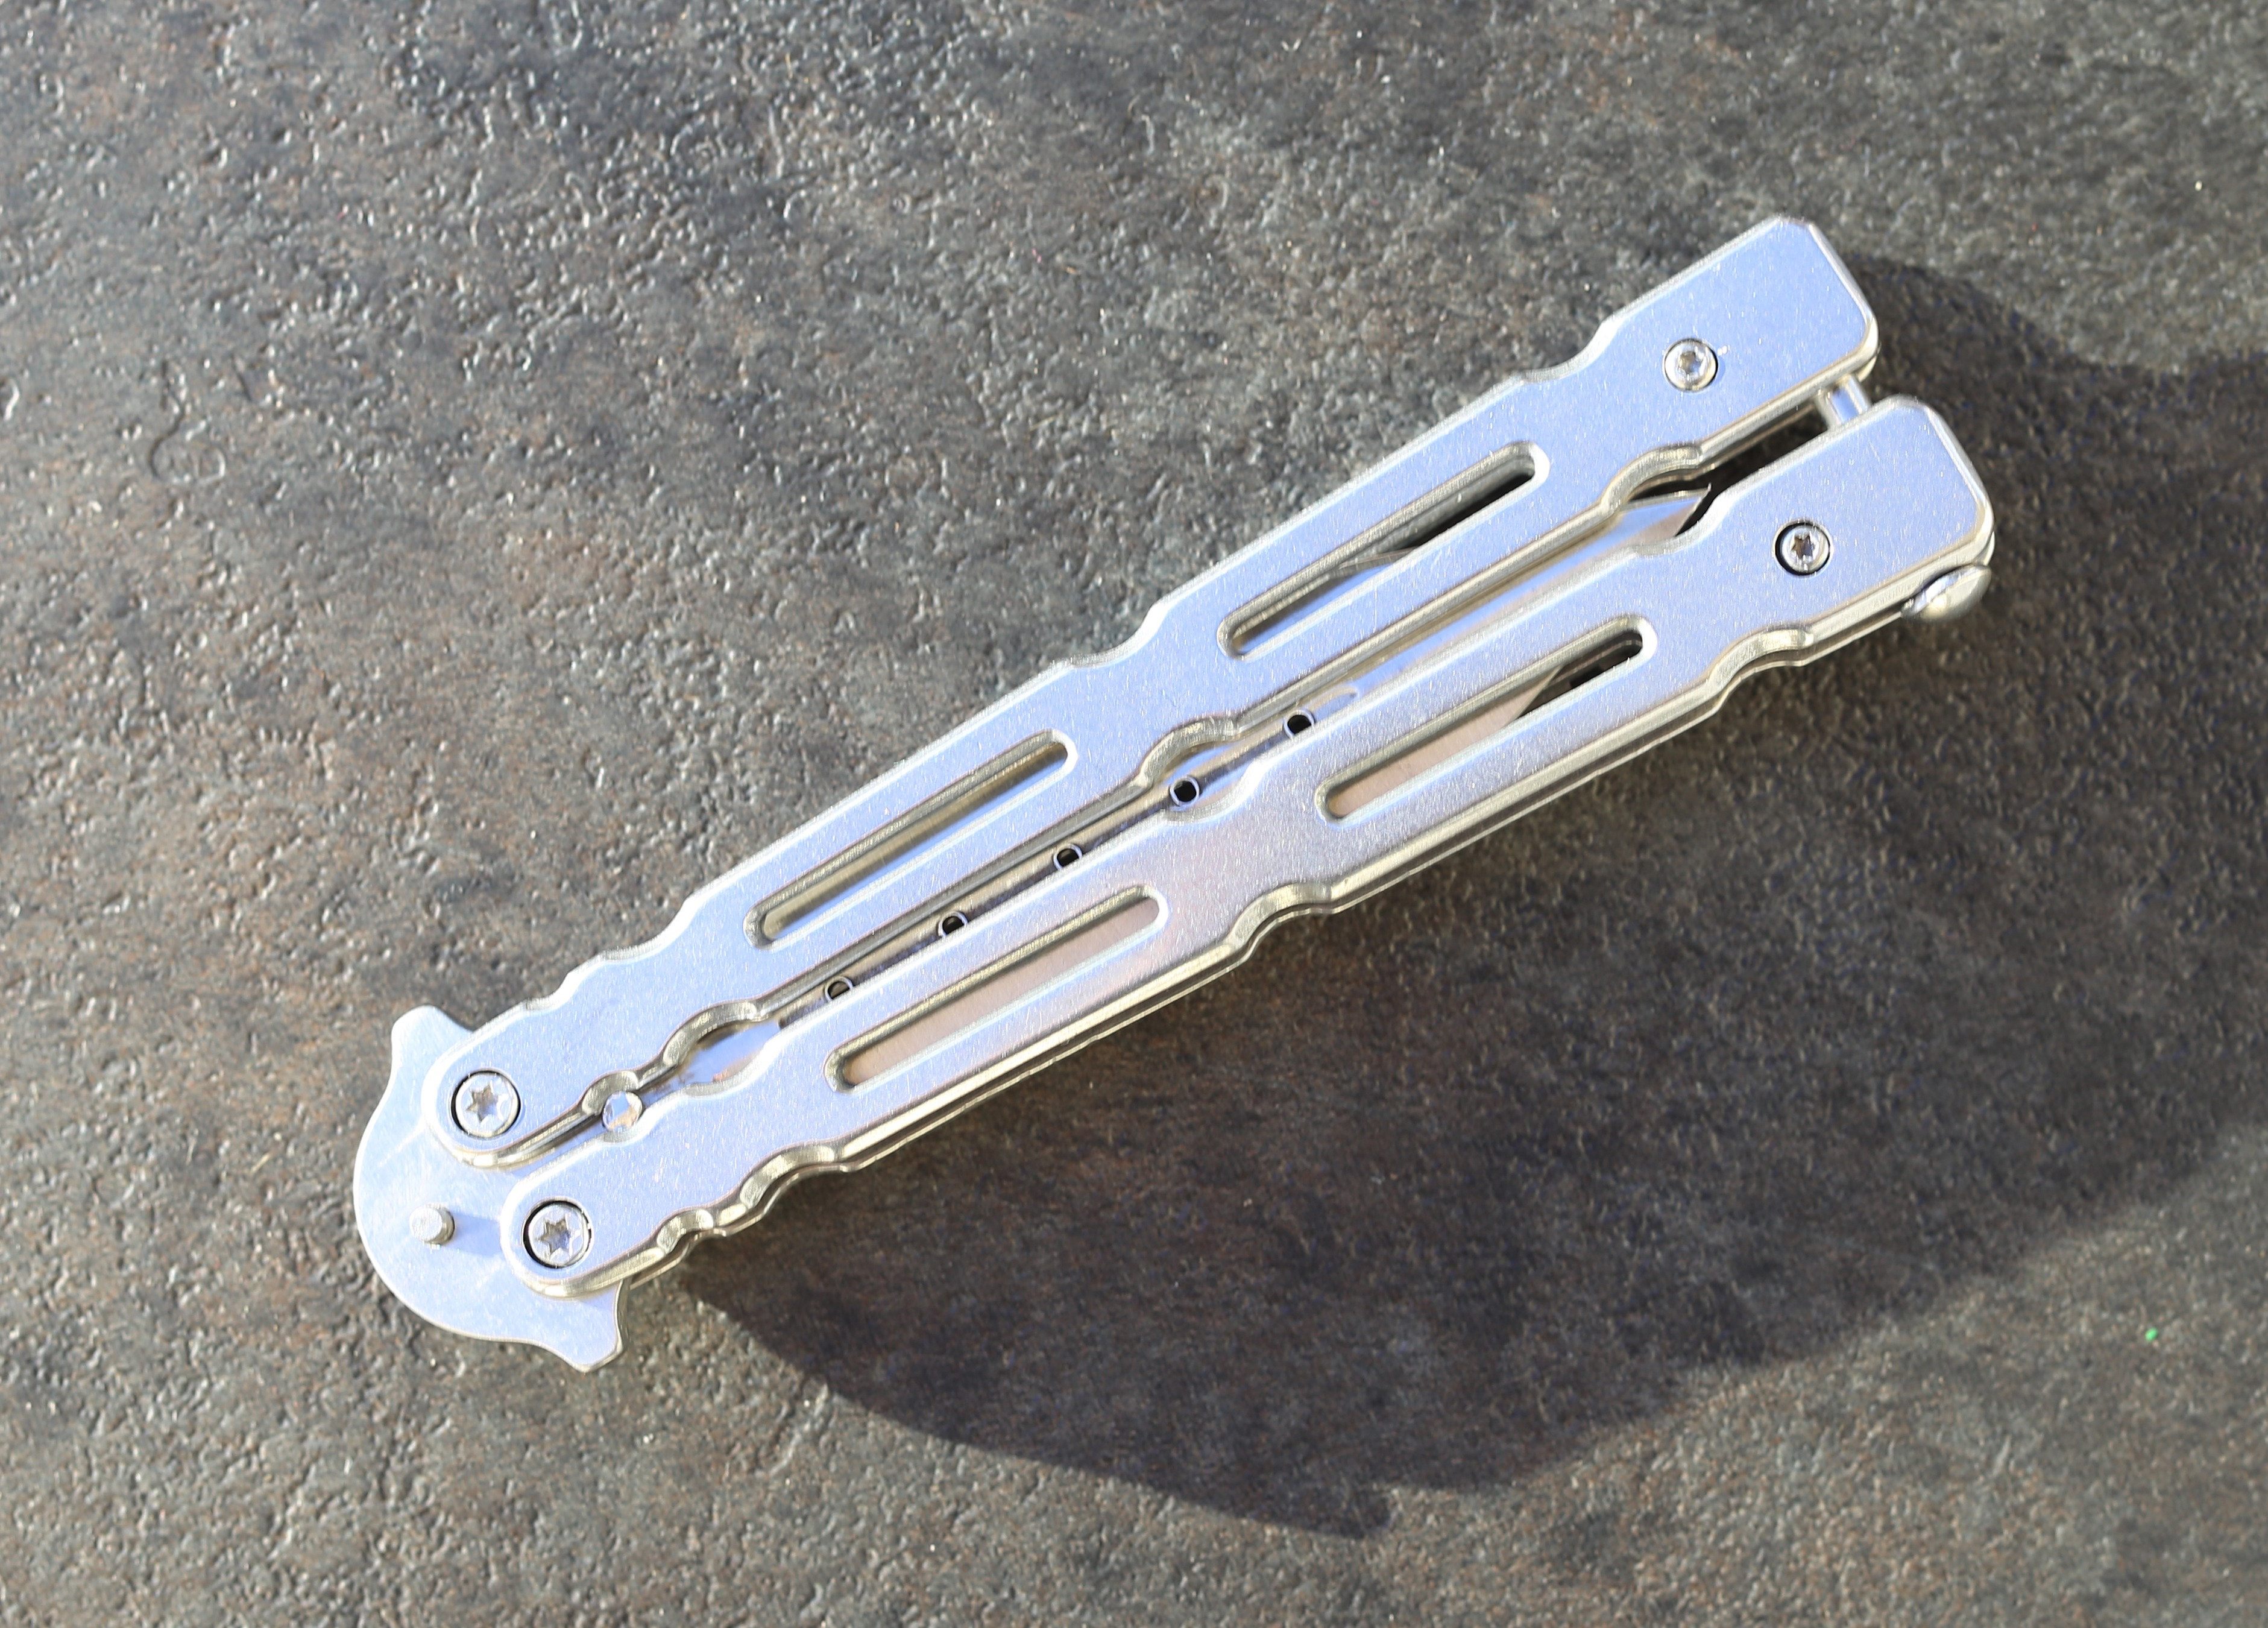knife: (342, 190, 2013, 1399)
